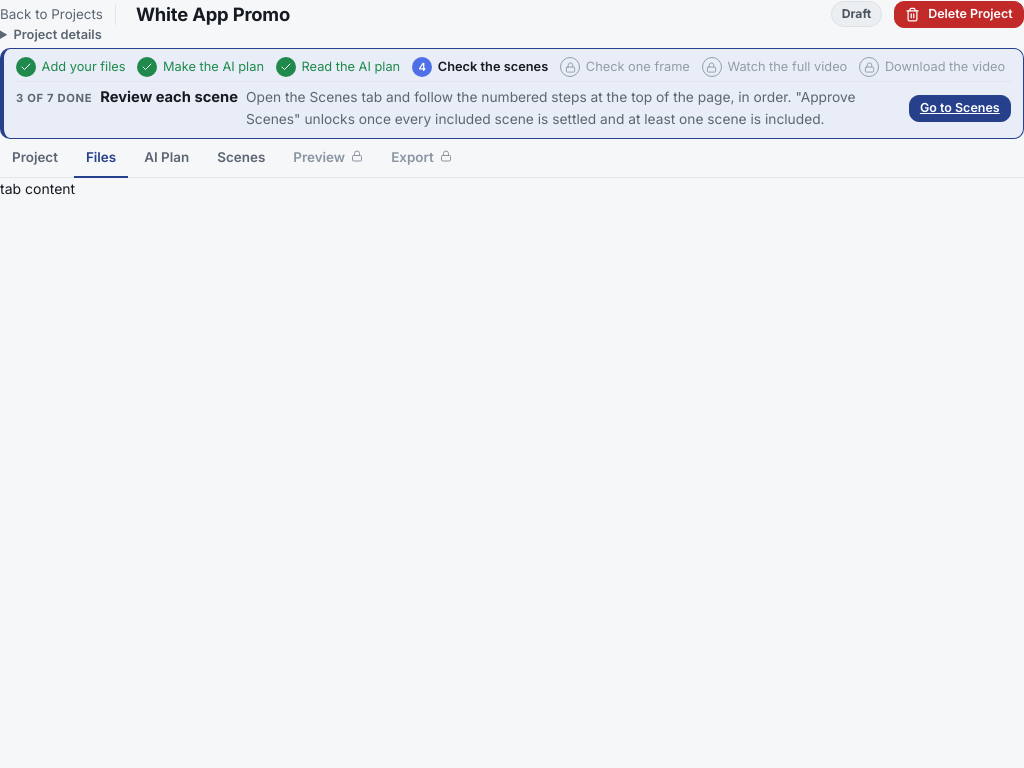
Test: Project workspace - what was taken off the page › still asks before deleting - the confirmation is what guards a destructive button at the top of every page
Check: the heading "White App Promo" is shown, box x1=136 y1=0 x2=290 y2=28
What coordinates should you click on to do the following:
click the button "Delete Project"
I would click on:
 (959, 14)
Its box is x1=894 y1=1 x2=1023 y2=28.
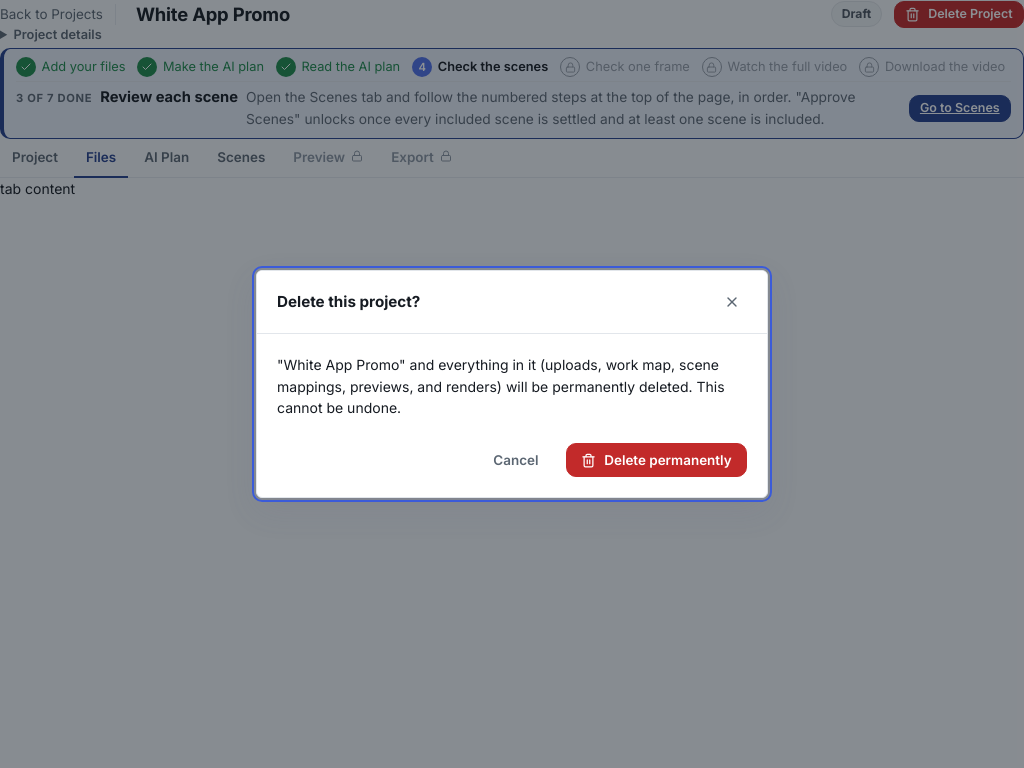
Check: the text "Delete this project?" is shown, box x1=277 y1=290 x2=420 y2=314
